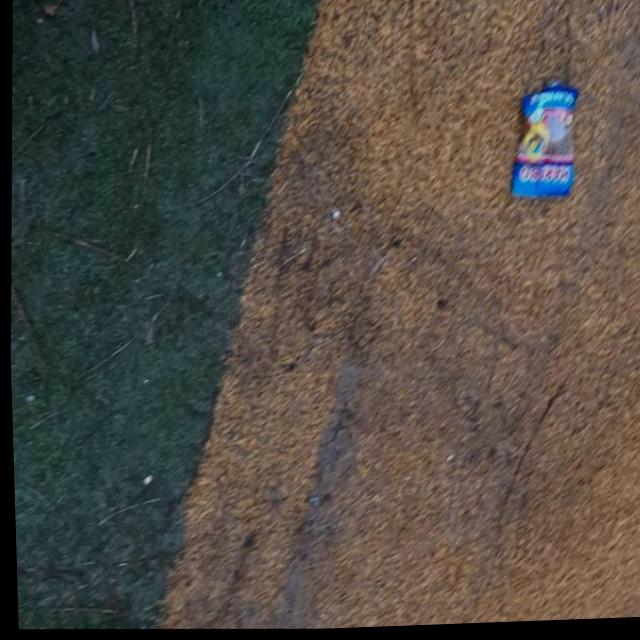Plastic: (504, 79, 581, 203)
